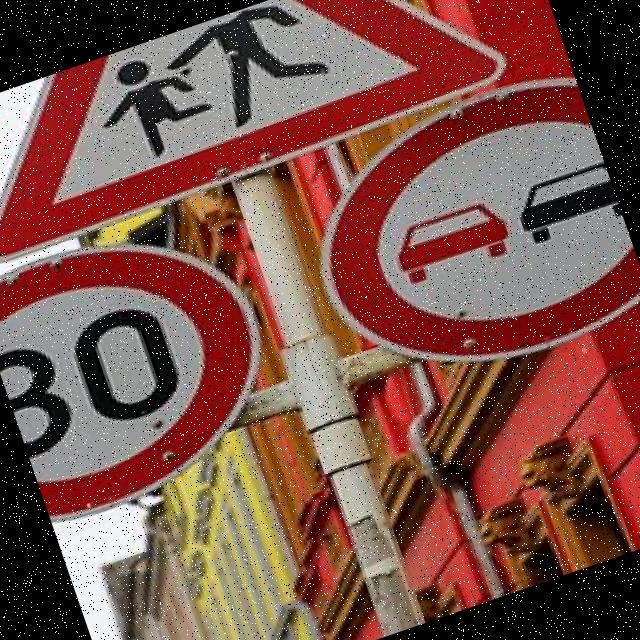no_passing: (281, 58, 640, 423)
